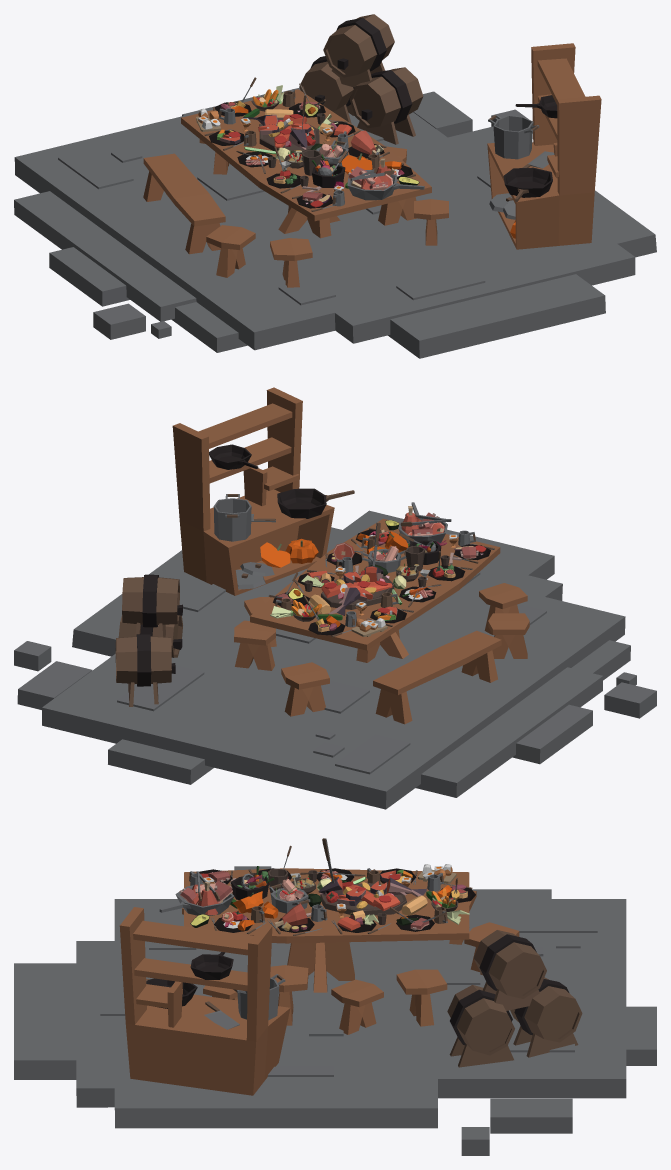
File: Feast.fbx
The picture shows the model from 3 angles, top to bottom: view 1: azimuth 30°, elevation 25°; view 2: azimuth 150°, elevation 25°; view 3: azimuth 270°, elevation 25°; orthographic projection. The views are drawn at different scales.
Parts seen in each view (by area): view 1: Feast; view 2: Feast; view 3: Feast.
Boxes of the visible parts, <box> form: Feast: <box>14,14,656,358</box>; Feast: <box>14,387,656,809</box>; Feast: <box>14,838,656,1155</box>.
Bounding box in the file's own units: 559 × 176 × 555.
1 material, 1 textured.
